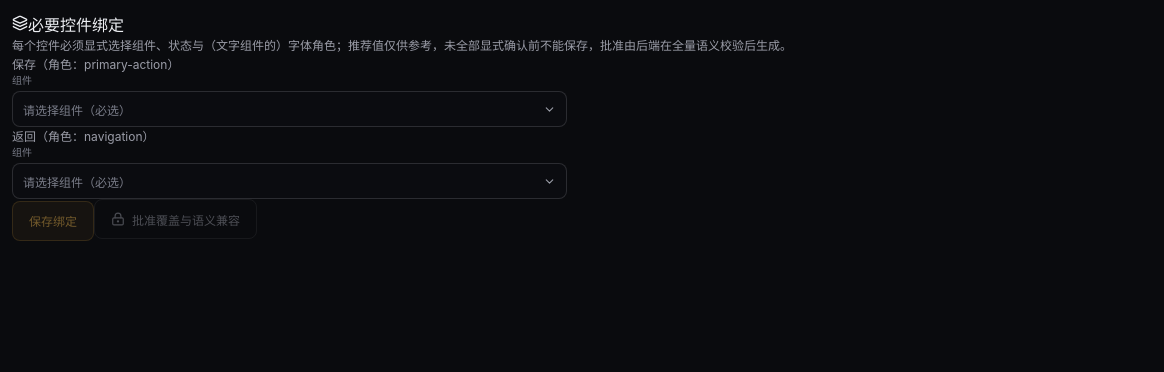
Test: BindingWorkbench（REM-01 / F-01 显式选择） › 选择组件后状态与字体角色保持空值，仅显示推荐提示
Click the dropdown with class "dropdown-button" below "primary-action" at x=289, y=109, box [12,91,567,127]
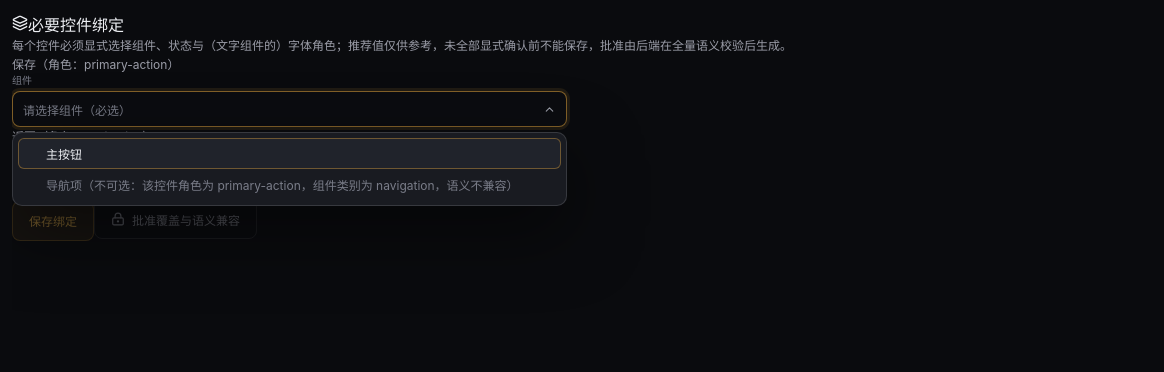
Click the option with class "dropdown-option" showing "主按钮" at x=64, y=155, box [18,138,561,169]
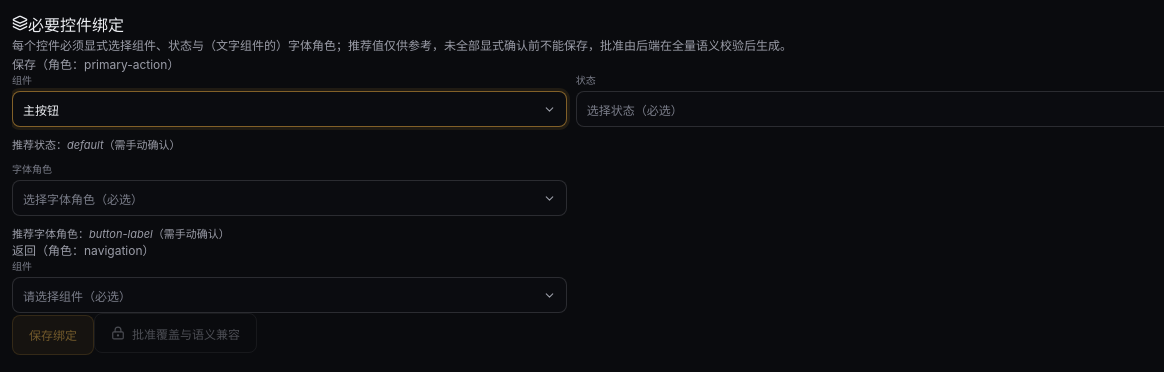
Now the text "选择状态（必选）" is shown, box [587,103,683,118]
Now the text "选择字体角色（必选）" is shown, box [23,192,143,207]
